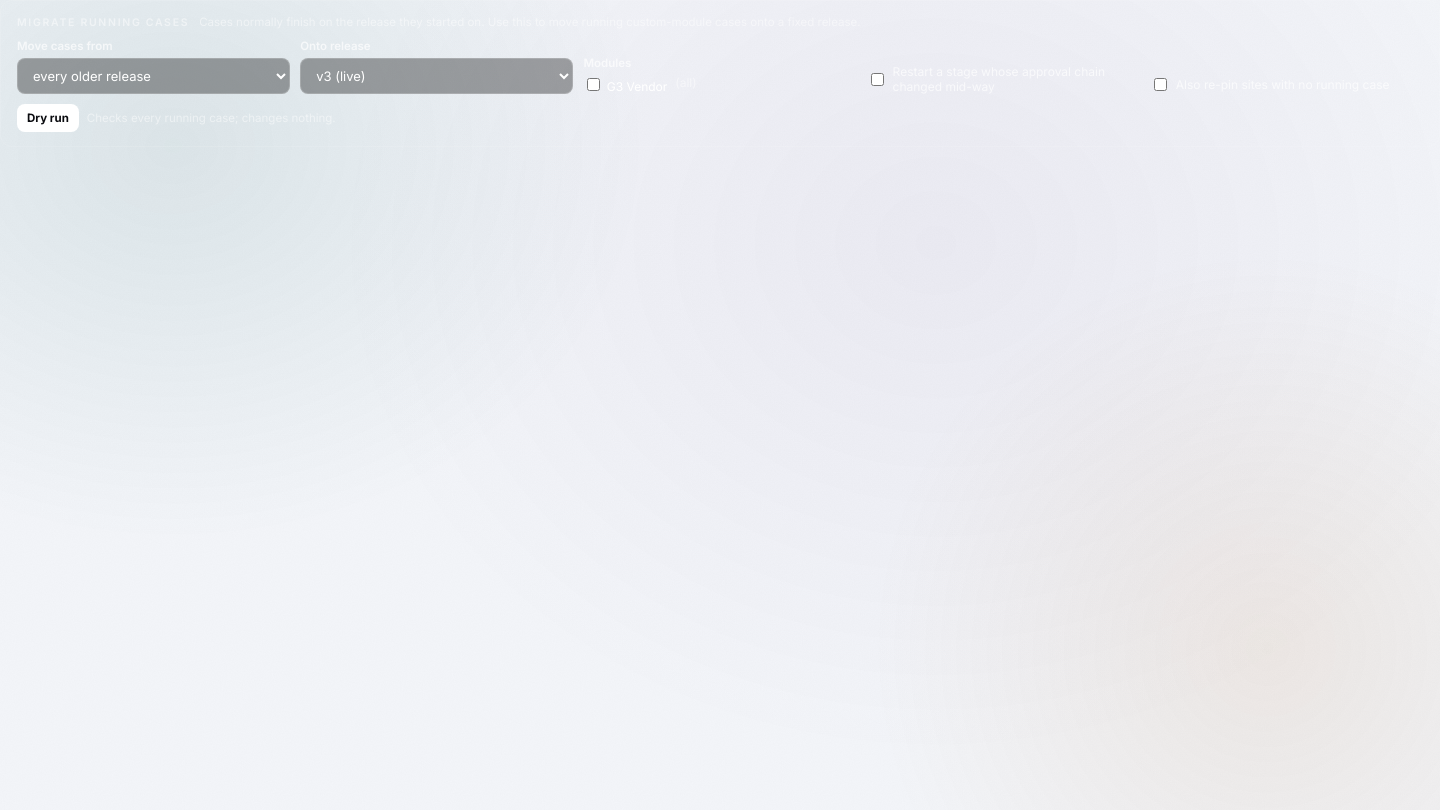
Test: MigrateCasesPanel — F5a › sends include_idle_sites, lists idle sites, and can execute a re-pin-only migration
Click the checkbox labelled "Also re-pin sites with no running case" at (1160,84), box [1154,78,1167,91]
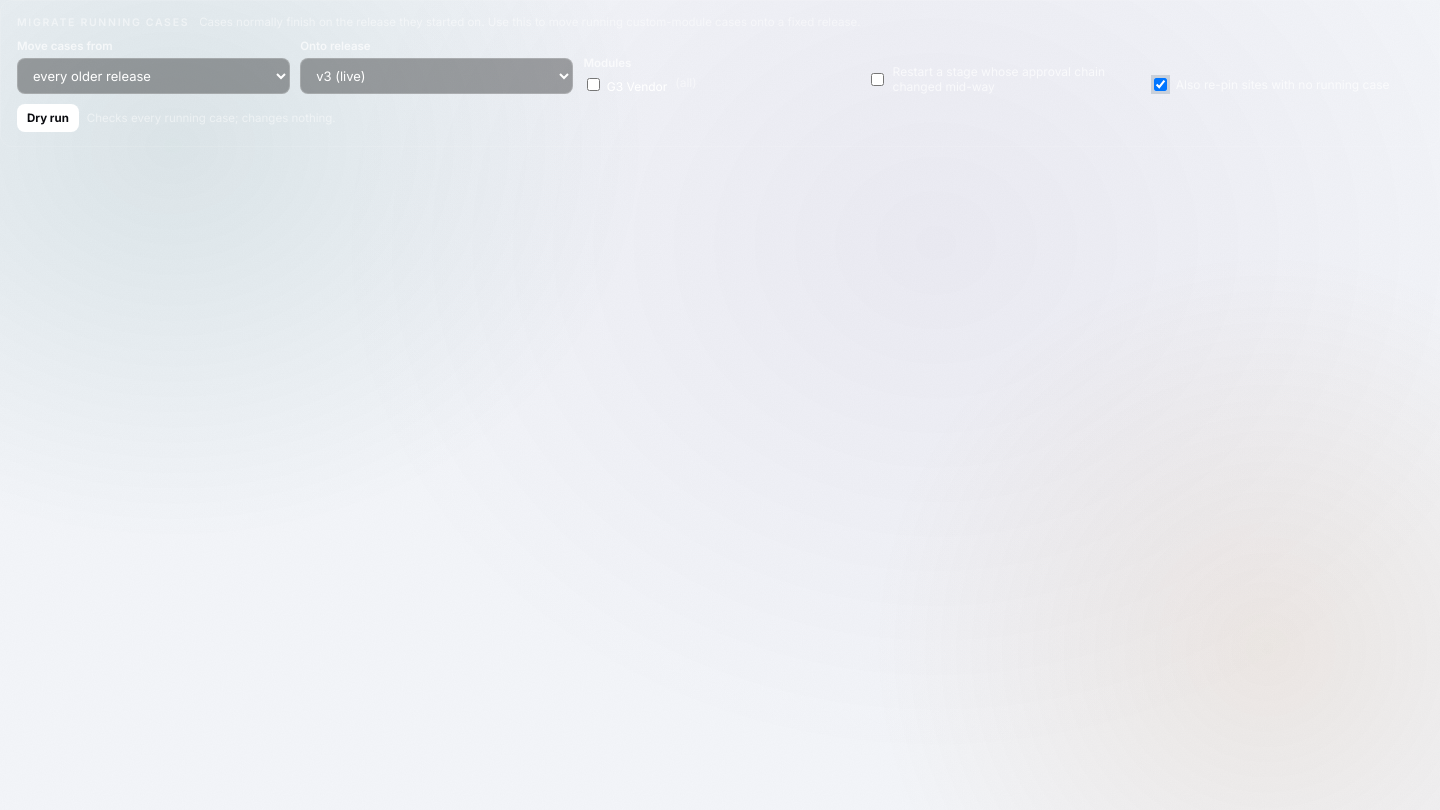
Click the button "Dry run" at (48,118), box [17,104,79,132]
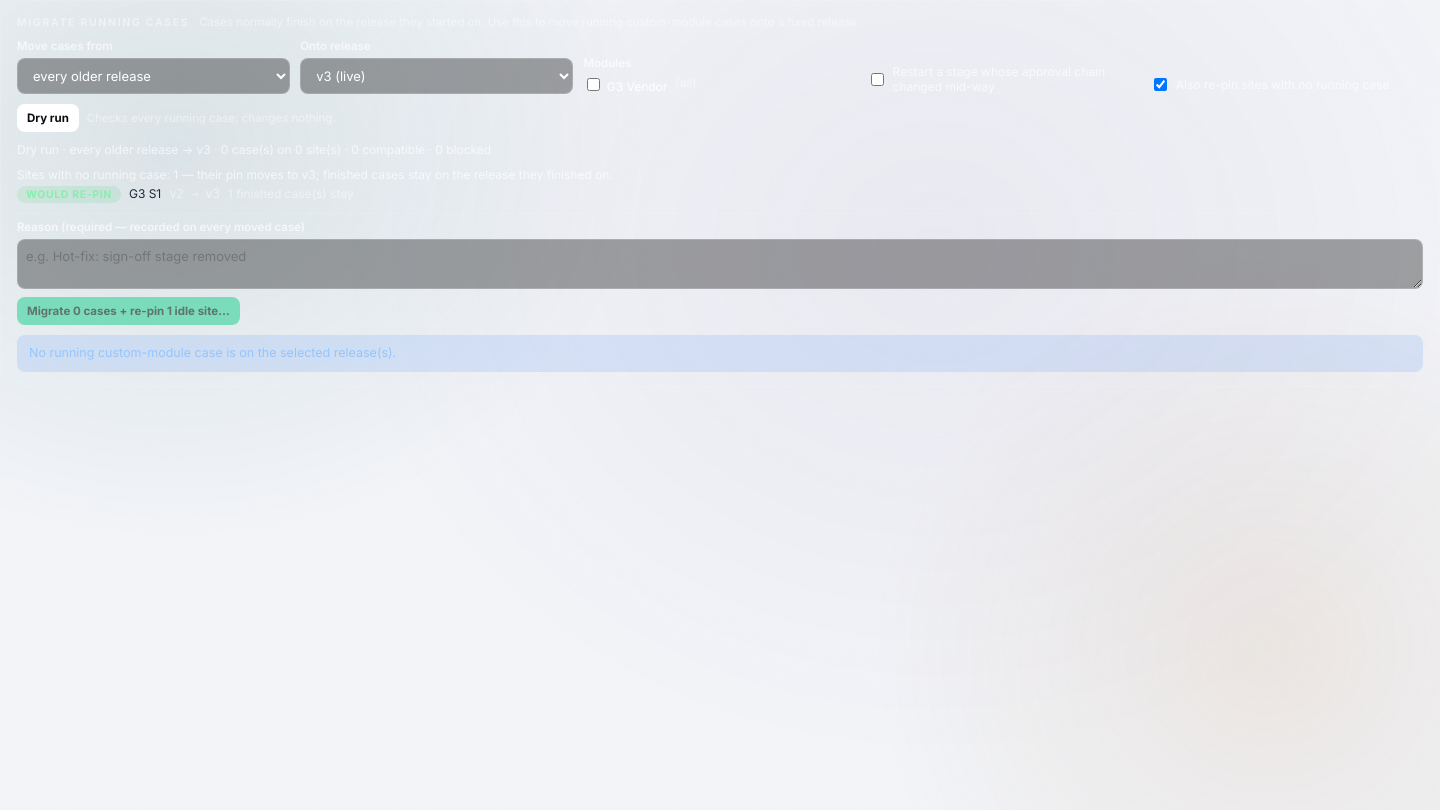
Type "Move idle sites onto v3" into the text box named "Migration reason" at (720,264), box [17,239,1423,289]
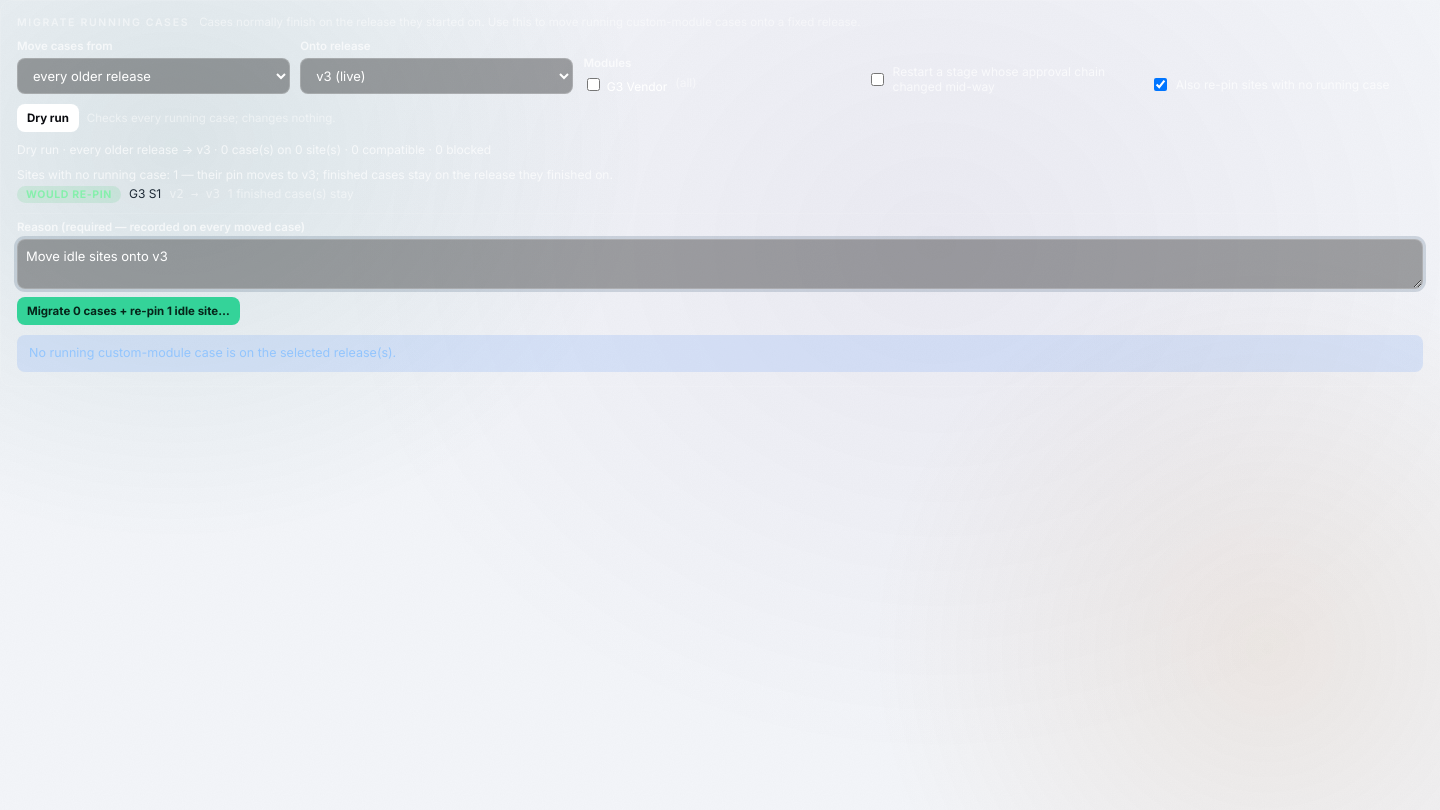
Click the button "Migrate 0 cases + re-pin 1 idle site…" at (128,311), box [17,297,240,325]
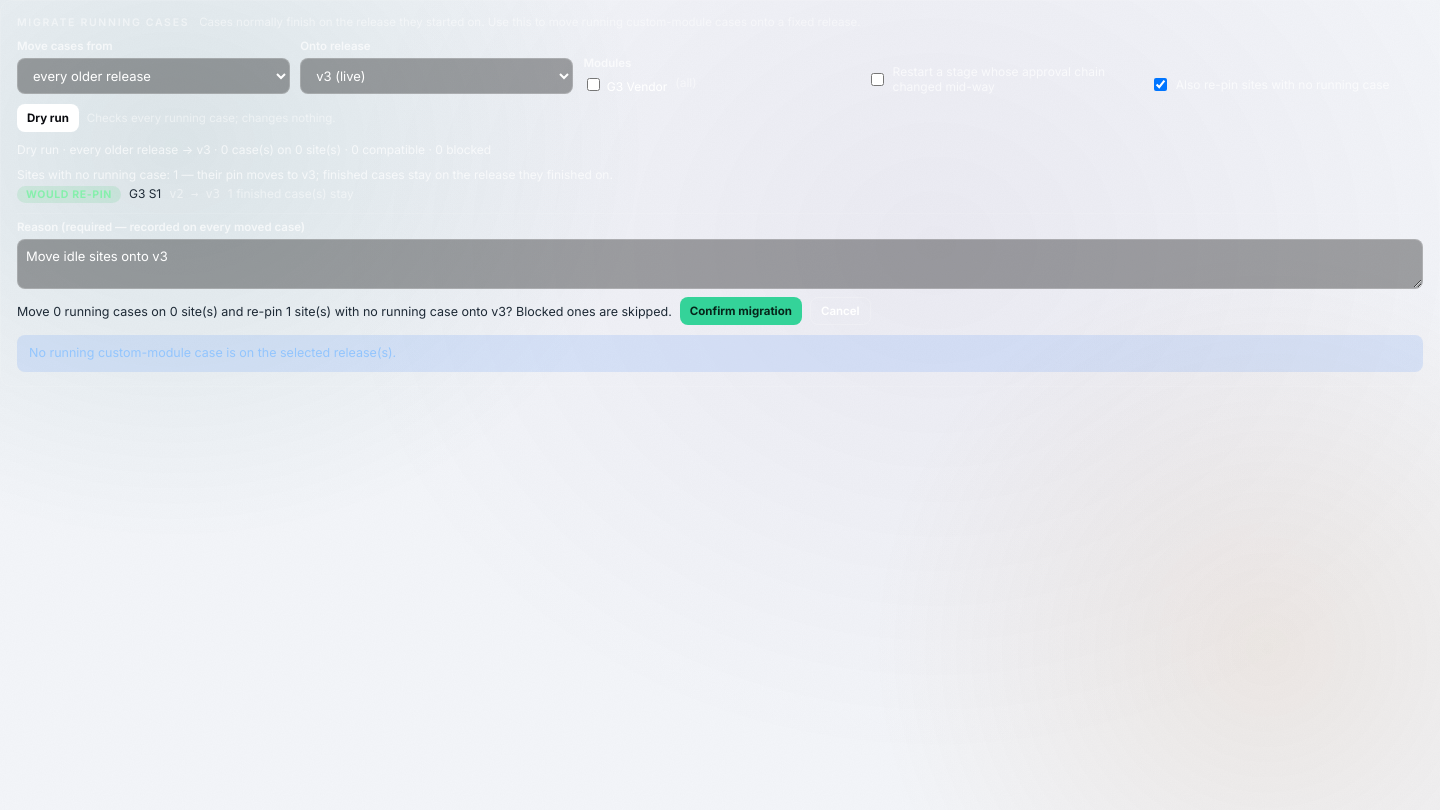
Click the button "Confirm migration" at (741,311), box [680,297,802,325]
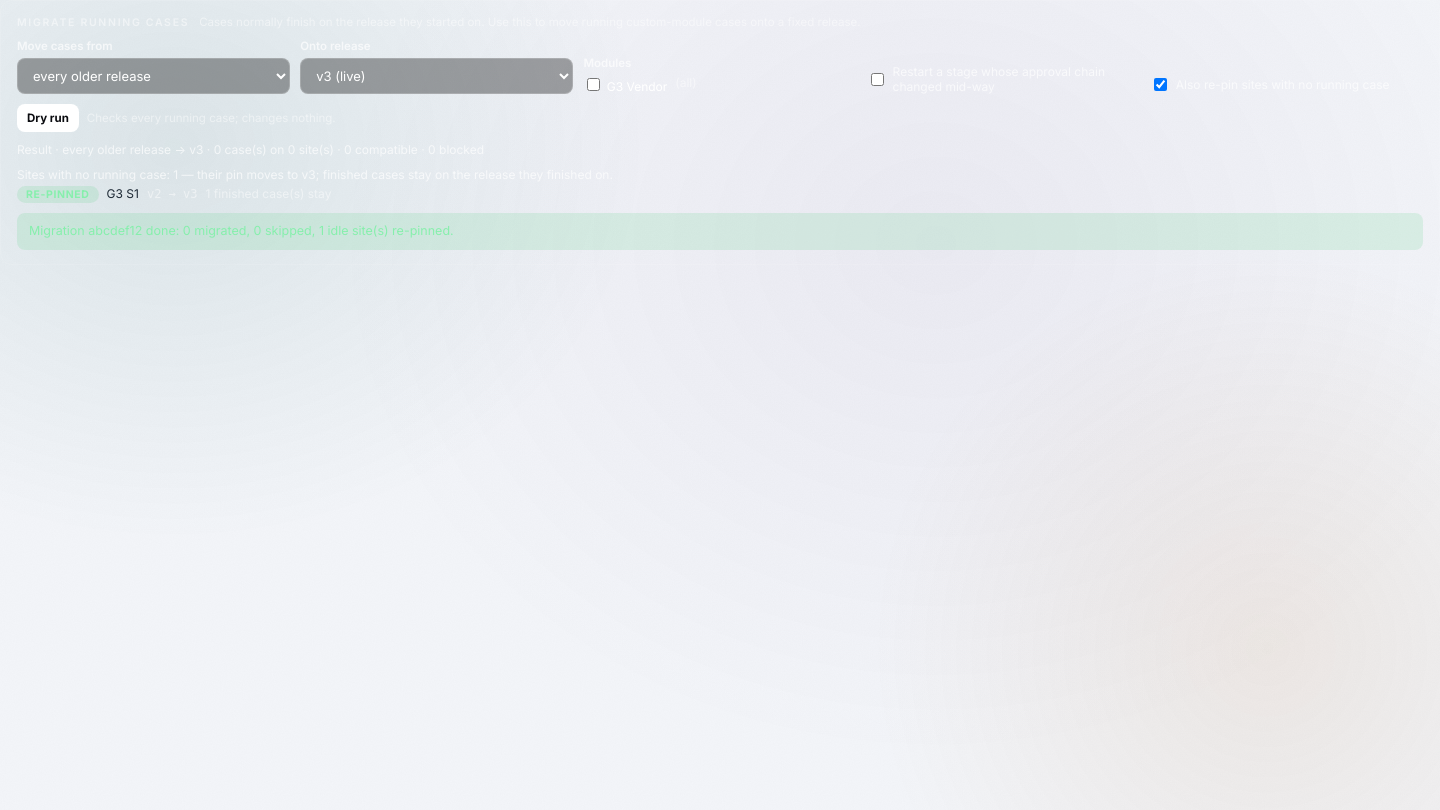
Expected: the text "Migration abcdef12 done: 0 migrated, 0 skipped, 1 idle site(s) re-pinned." is shown, [17,213,1423,250]
